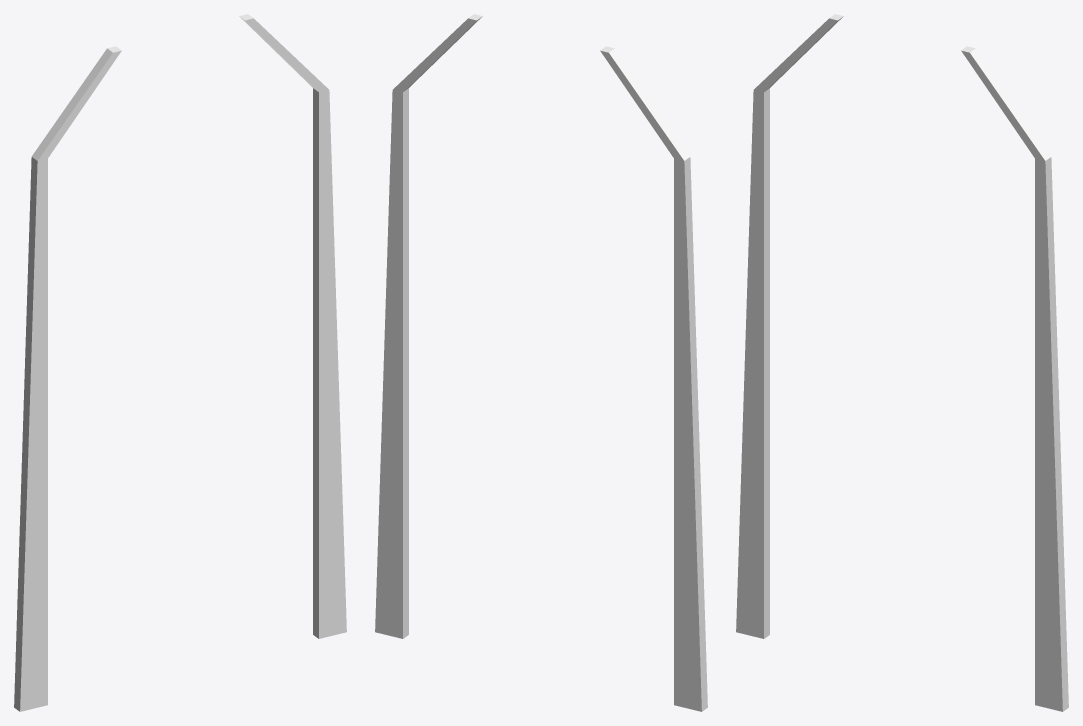
File: insideLight.obj
3 renders of one model, left to right at view 1: azimuth 30°, elevation 25°; view 2: azimuth 150°, elevation 25°; view 3: azimuth 330°, elevation 25°, orthographic.
Parts seen in each view (by area): view 1: insideLight; view 2: insideLight; view 3: insideLight.
Part boxes in pixels (x1=…): insideLight: x1=14, y1=14, x2=346, y2=711; insideLight: x1=375, y1=14, x2=707, y2=711; insideLight: x1=736, y1=14, x2=1068, y2=711.
Size of the model in its own units: 1.86 by 3.46 by 0.0593.
Materials: 1 (1 with a texture image).
